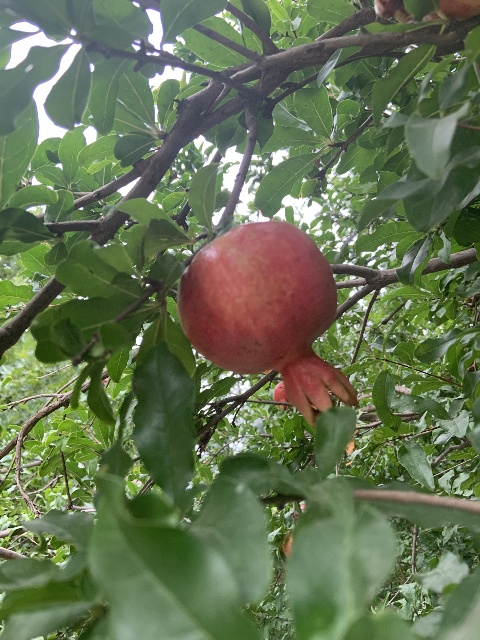ripe: (177, 220, 356, 425), (272, 382, 290, 410)
